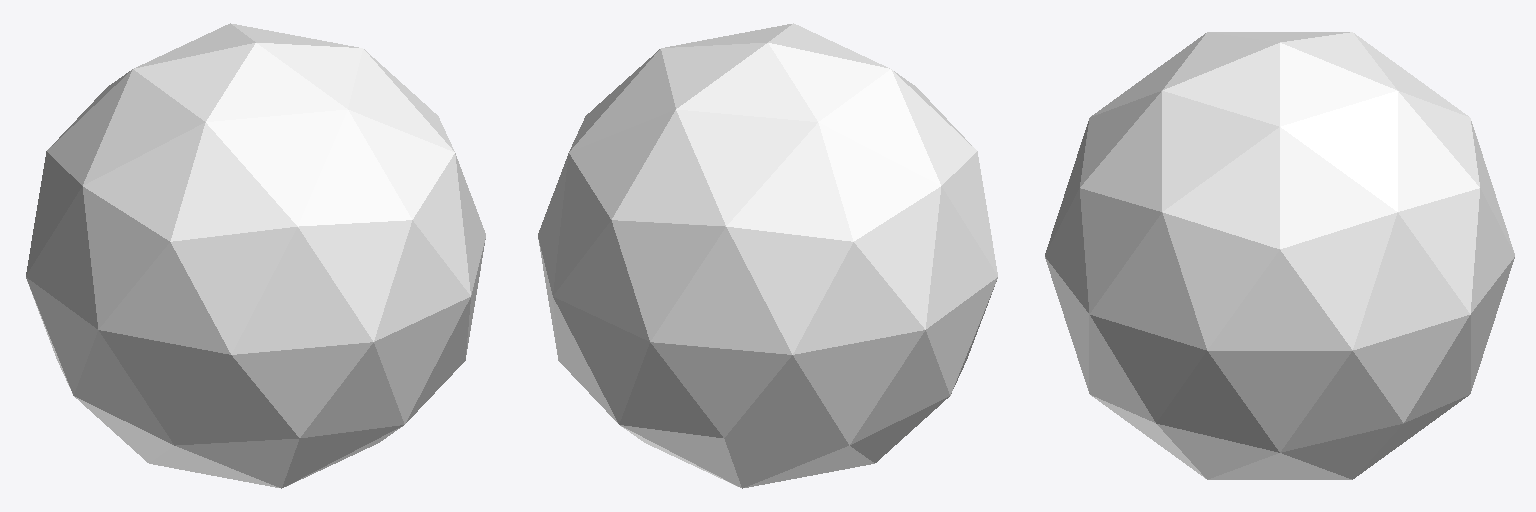
File: pearl.obj
3 views of the same model, side by side, from view 1: azimuth 30°, elevation 25°; view 2: azimuth 150°, elevation 25°; view 3: azimuth 270°, elevation 25° (orthographic).
Parts seen in each view (by area): view 1: GeoSphere001; view 2: GeoSphere001; view 3: GeoSphere001.
Boxes of the visible parts, <box> form: GeoSphere001: <box>26,23,485,488</box>; GeoSphere001: <box>538,23,997,488</box>; GeoSphere001: <box>1045,32,1514,479</box>.
Bounding box in the file's own units: 0.951 × 1 × 1.